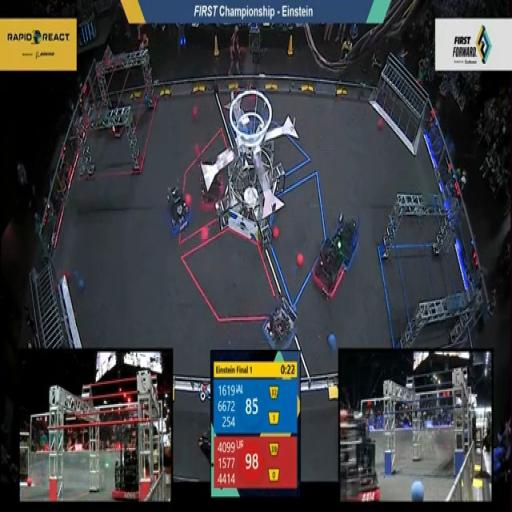robot: (262, 288, 306, 352), (311, 234, 344, 302), (330, 209, 364, 269), (194, 152, 226, 214), (164, 172, 194, 236), (105, 84, 130, 146)
